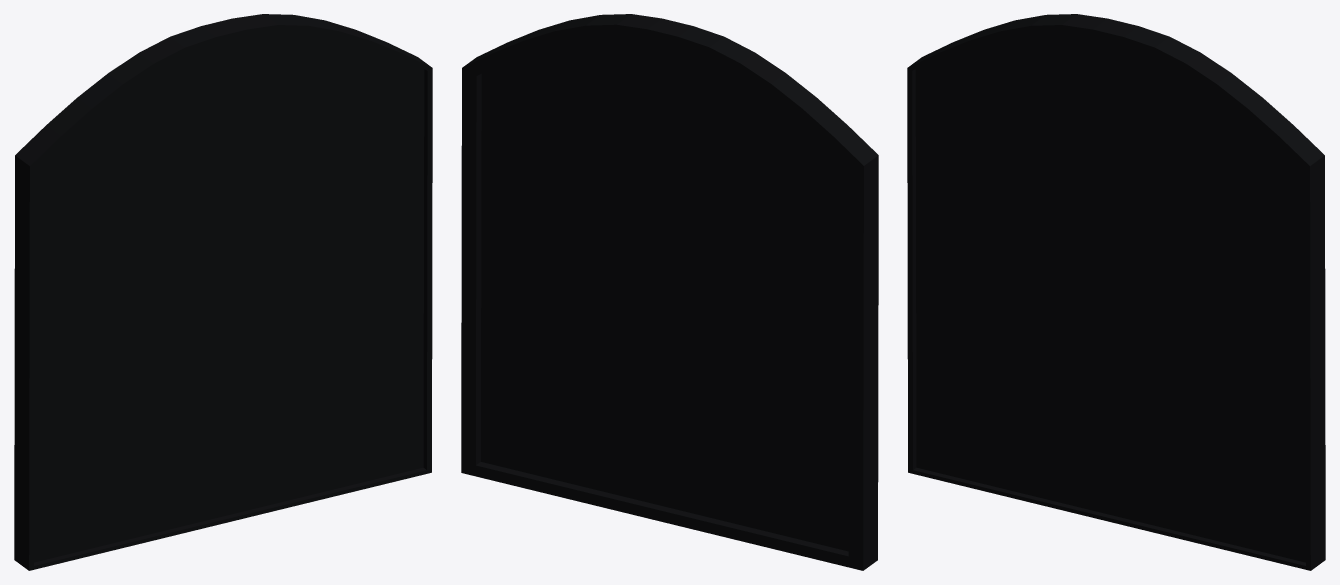
File: MailboxLid.glb
3 renders of one model, left to right at view 1: azimuth 30°, elevation 25°; view 2: azimuth 150°, elevation 25°; view 3: azimuth 330°, elevation 25°, orthographic.
Visible parts, largest first — view 1: Cube.001; view 2: Cube.001; view 3: Cube.001.
Boxes of the visible parts, x1=… form: Cube.001: x1=14, y1=14, x2=432, y2=570; Cube.001: x1=461, y1=14, x2=878, y2=570; Cube.001: x1=907, y1=14, x2=1325, y2=570.
Bounding box in the file's own units: 0.8424 × 0.9778 × 0.0571.
1 material, 1 textured.
